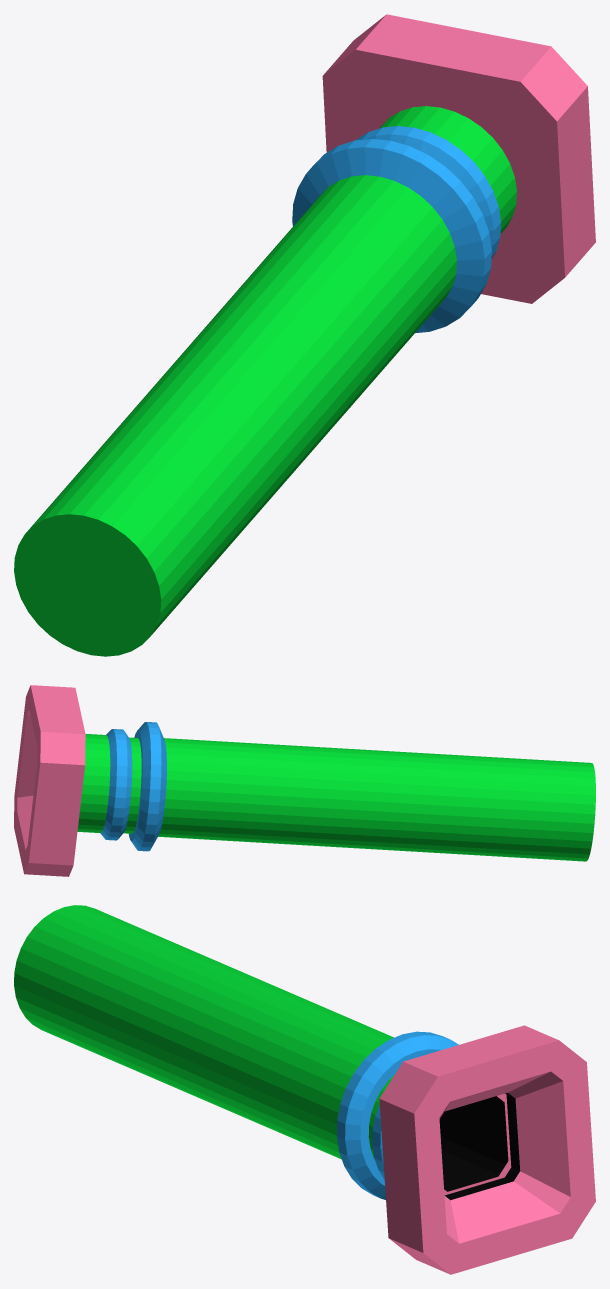
File: RobotCannon.fbx
3 views of the same model, one above another, from view 1: azimuth 30°, elevation 25°; view 2: azimuth 150°, elevation 25°; view 3: azimuth 270°, elevation 25° (orthographic). The views are drawn at different scales.
Visible parts, largest first — view 1: Tower Cannon.001; view 2: Tower Cannon.001; view 3: Tower Cannon.001.
Boxes of the visible parts, x1,y1,x2,y2 form: Tower Cannon.001: [14, 14, 595, 656]; Tower Cannon.001: [14, 685, 595, 876]; Tower Cannon.001: [14, 905, 595, 1274].
Bounding box in the file's own units: 1252 × 435 × 1006.
